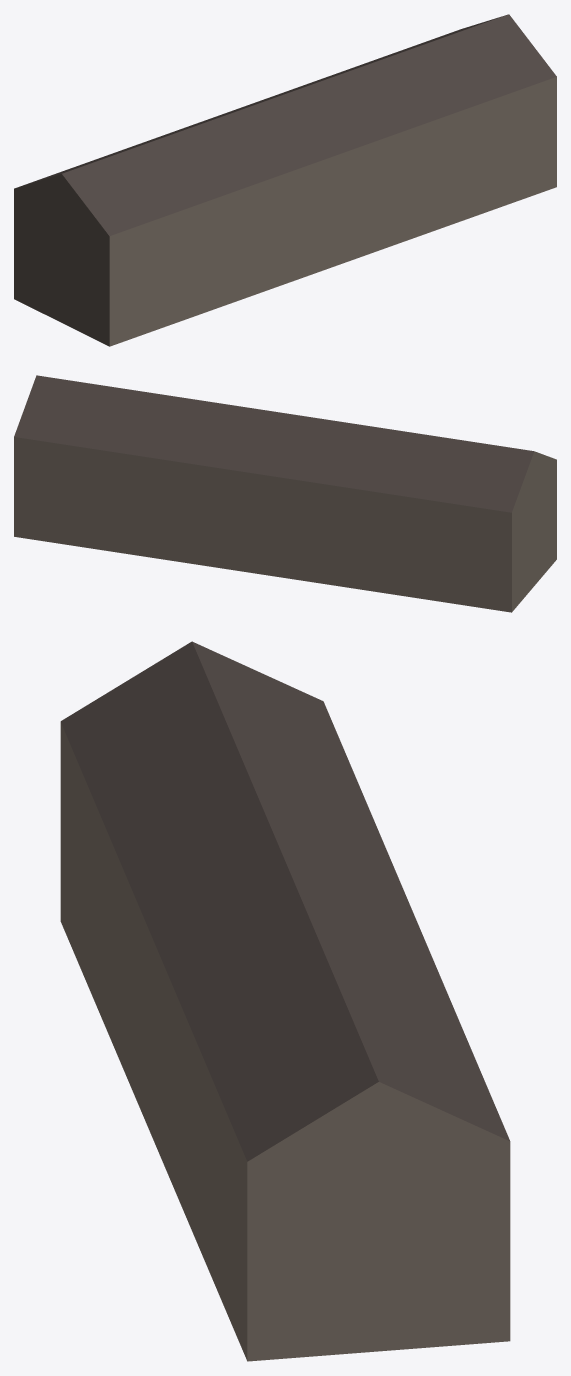
3 views of the same model, one above another, from view 1: azimuth 30°, elevation 25°; view 2: azimuth 150°, elevation 25°; view 3: azimuth 270°, elevation 25° (orthographic). The views are drawn at different scales.
Visible parts, largest first — view 1: HP-w859447901; view 2: HP-w859447901; view 3: HP-w859447901.
Boxes of the visible parts, x1,y1,x2,y2 form: HP-w859447901: (14, 14, 556, 346); HP-w859447901: (14, 375, 556, 612); HP-w859447901: (60, 641, 510, 1361).
Size of the model in its own units: 29.67 by 8.1 by 12.25.
